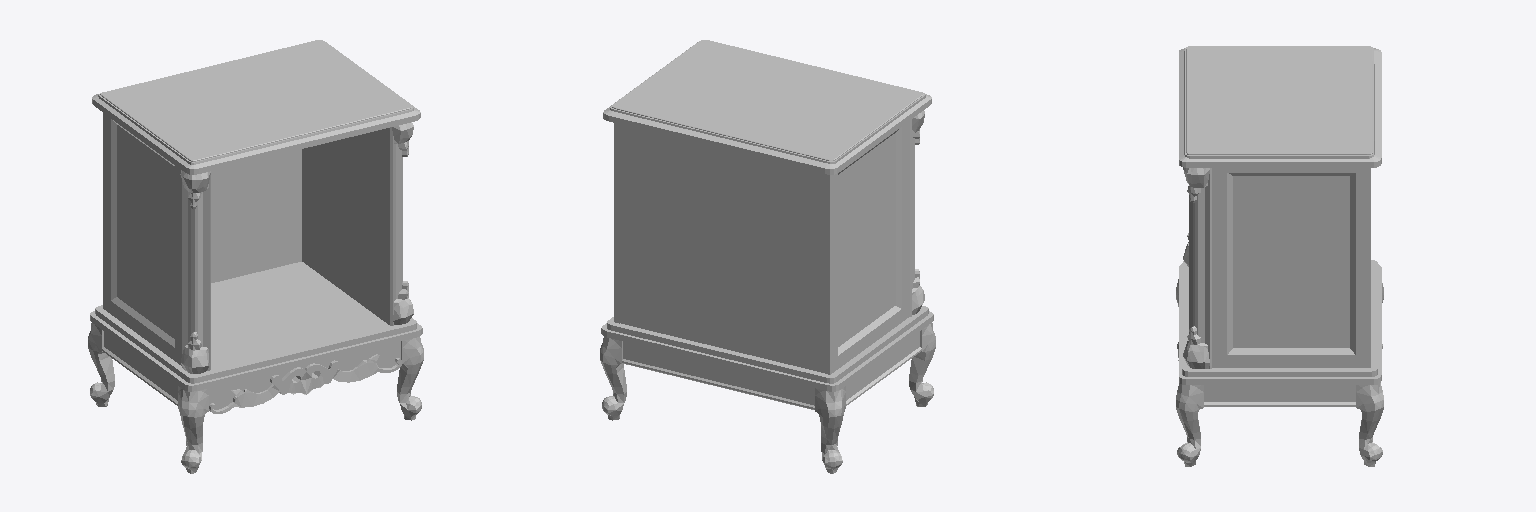
The model's file is ClassicNightstand_01.obj.
3 views of the same model, side by side, from view 1: azimuth 30°, elevation 25°; view 2: azimuth 150°, elevation 25°; view 3: azimuth 270°, elevation 25° (orthographic).
Parts seen in each view (by area): view 1: ClassicNightstand_01_Plane.003; view 2: ClassicNightstand_01_Plane.003; view 3: ClassicNightstand_01_Plane.003.
Boxes of the visible parts, x1=… form: ClassicNightstand_01_Plane.003: x1=88, y1=40, x2=423, y2=473; ClassicNightstand_01_Plane.003: x1=600, y1=40, x2=935, y2=473; ClassicNightstand_01_Plane.003: x1=1176, y1=46, x2=1383, y2=466.
Bounding box in the file's own units: 0.5678 × 0.7 × 0.4242.